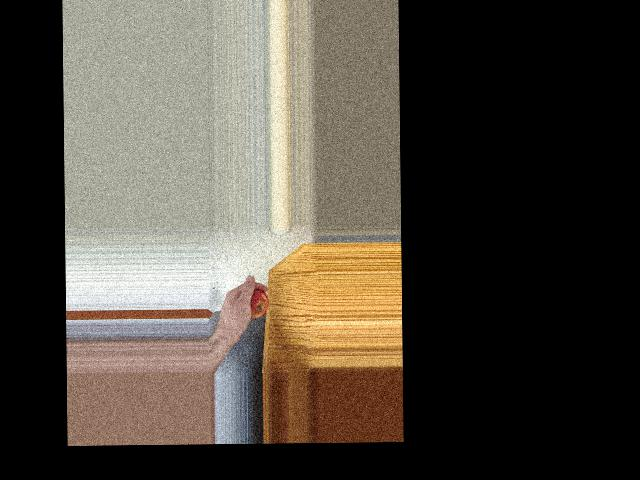apple: (241, 287, 269, 318)
